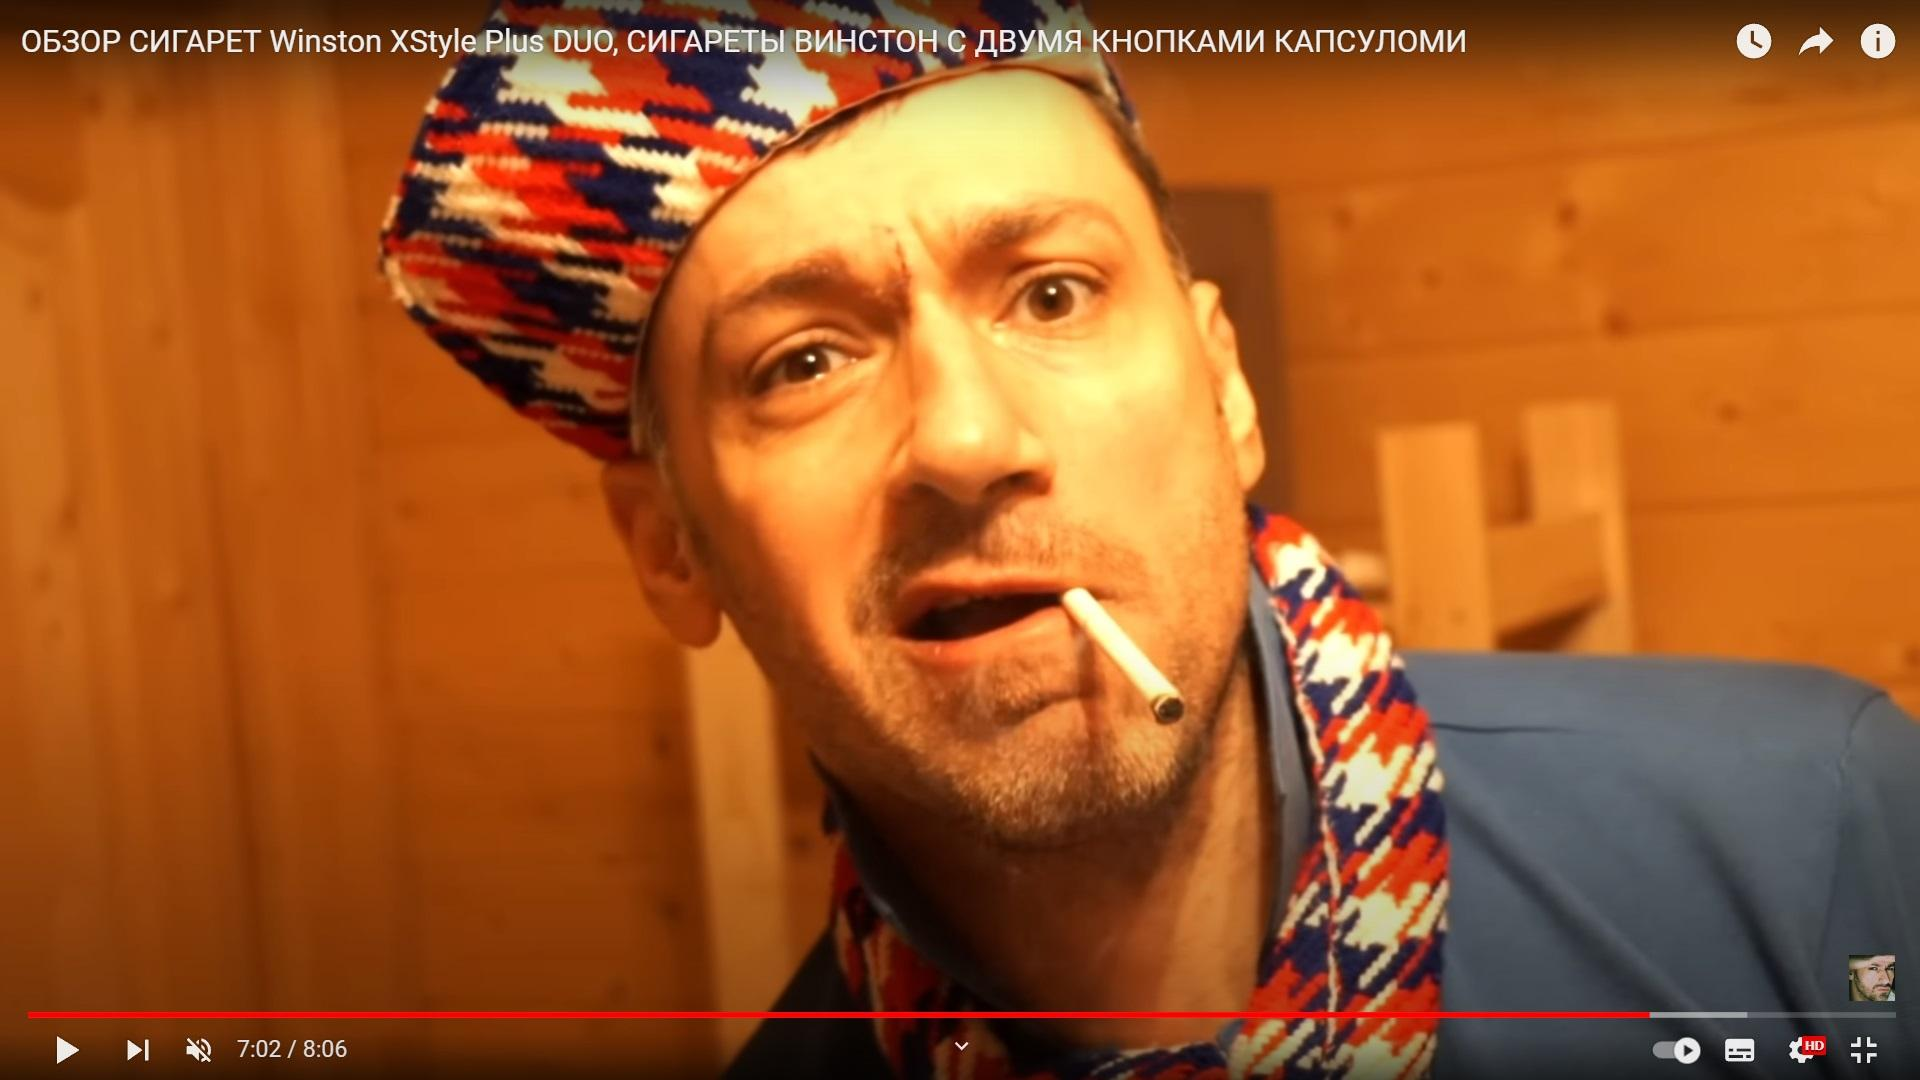cigarette: (1058, 587, 1185, 724)
